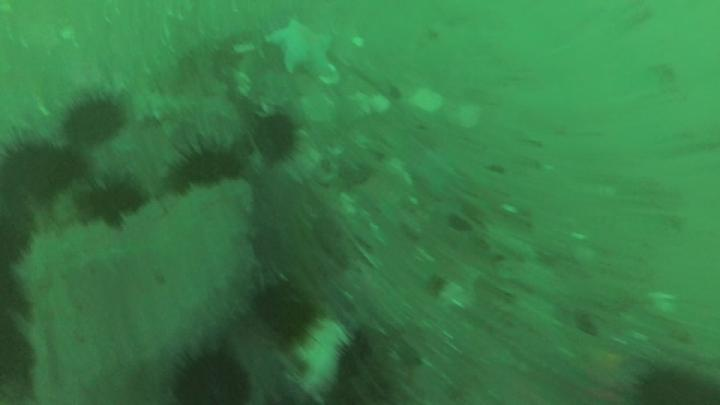echinus: (173, 353, 252, 405), (5, 147, 83, 199), (254, 289, 313, 341), (171, 150, 242, 192), (81, 179, 142, 222), (61, 101, 122, 144), (1, 201, 33, 257), (257, 117, 294, 159)
starfish: (267, 18, 334, 76)
